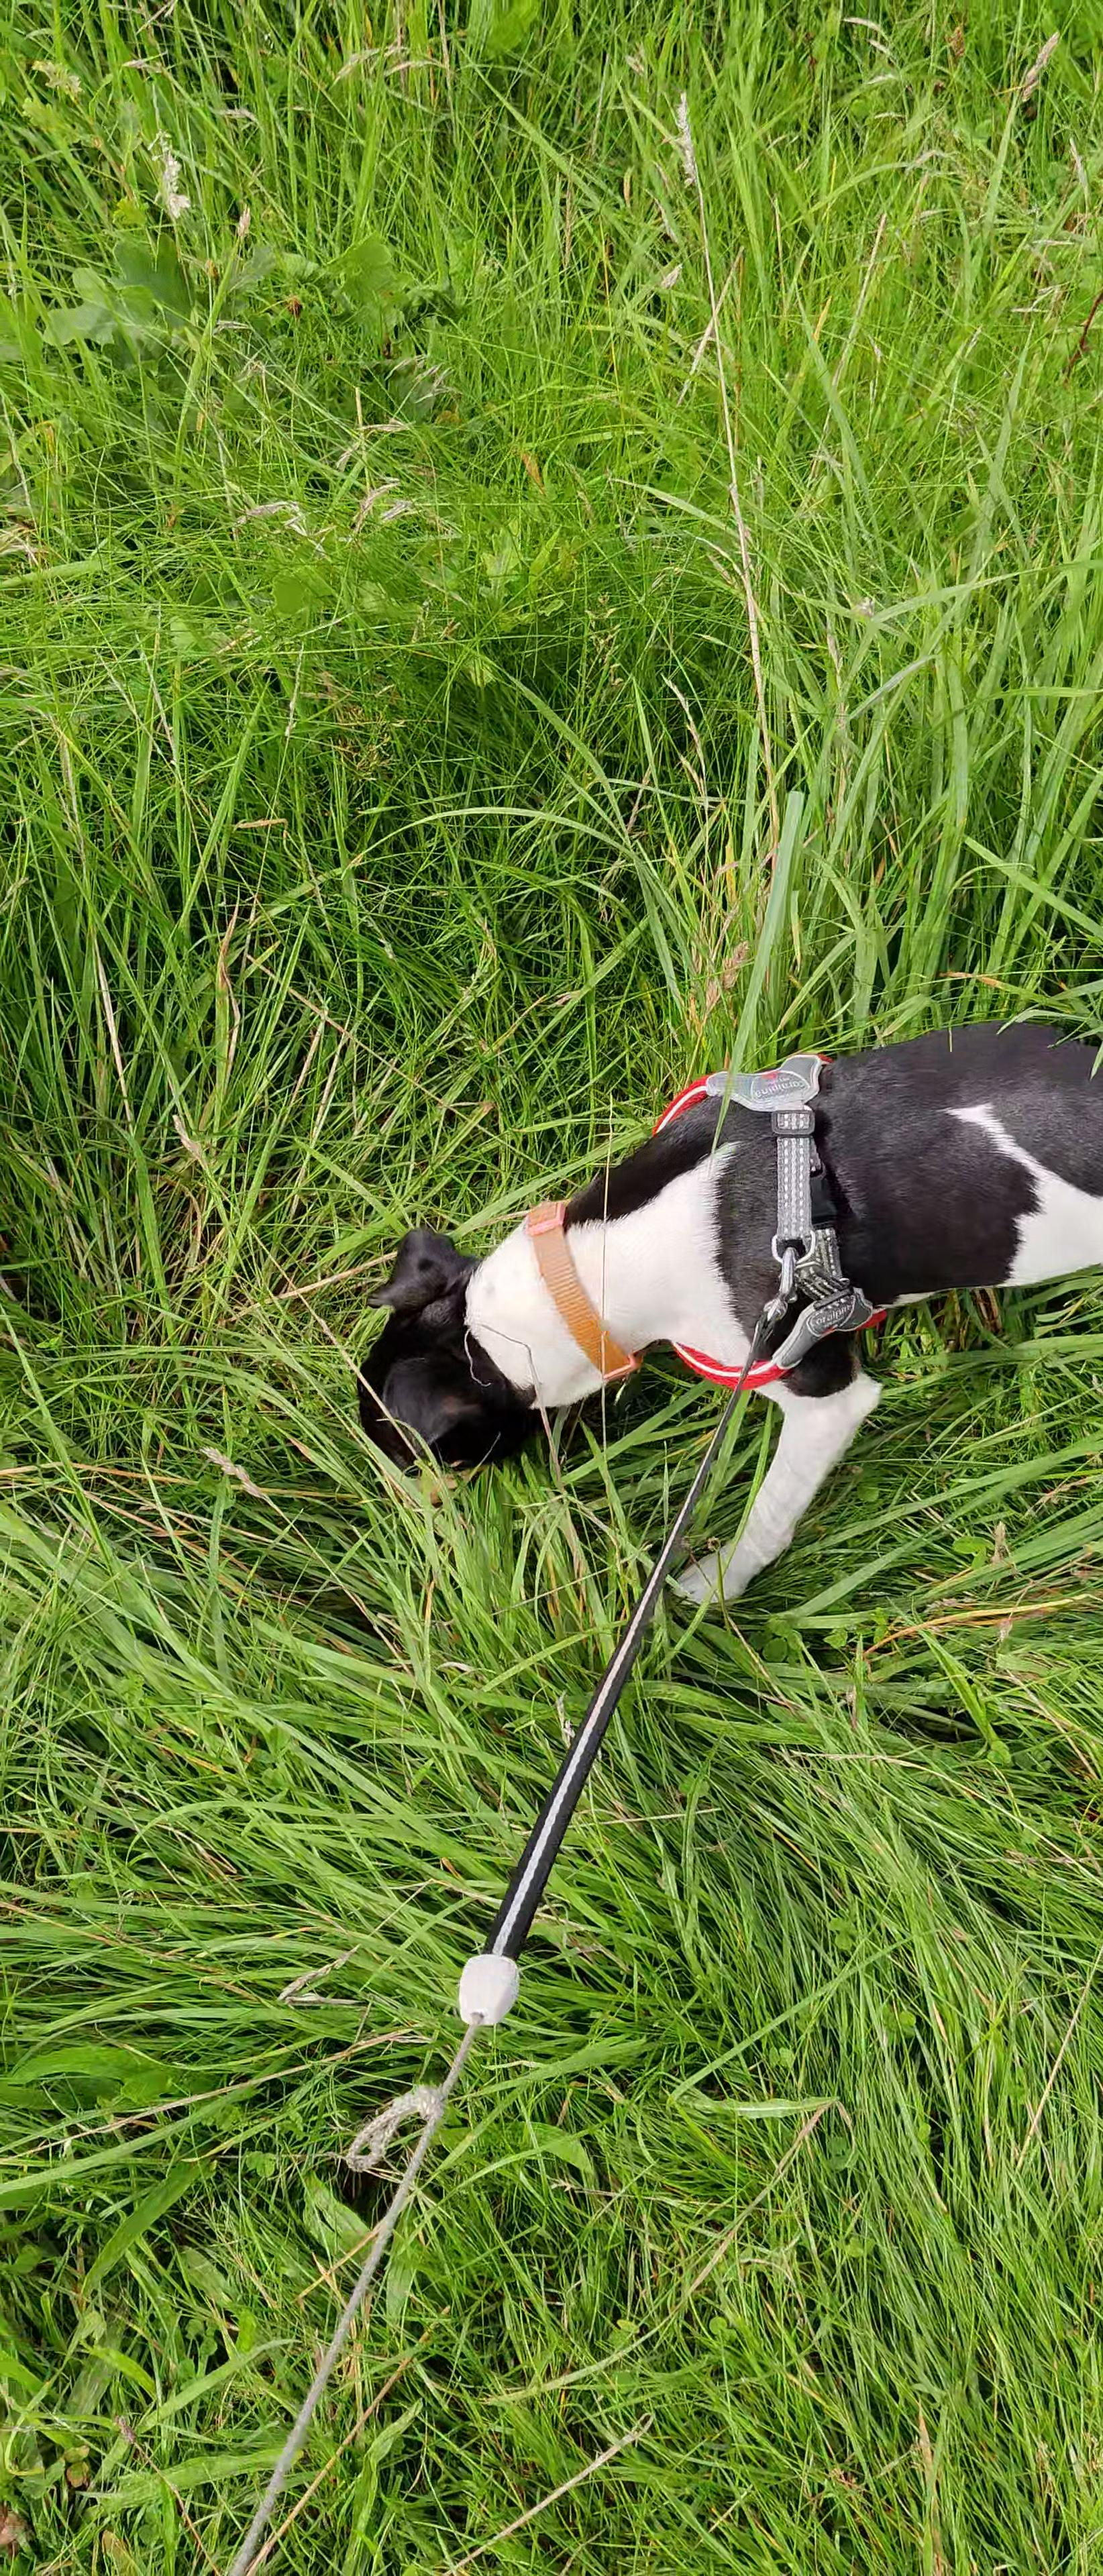Dog: (342, 996, 1103, 1615)
